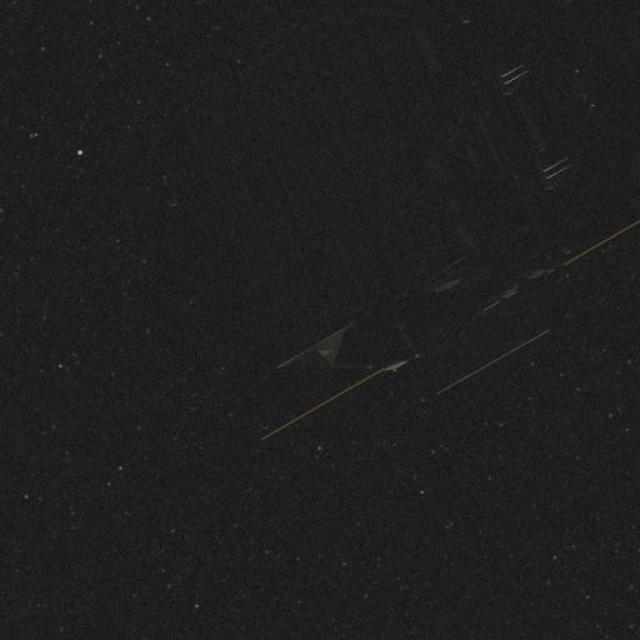proba_2: (241, 77, 609, 447)
